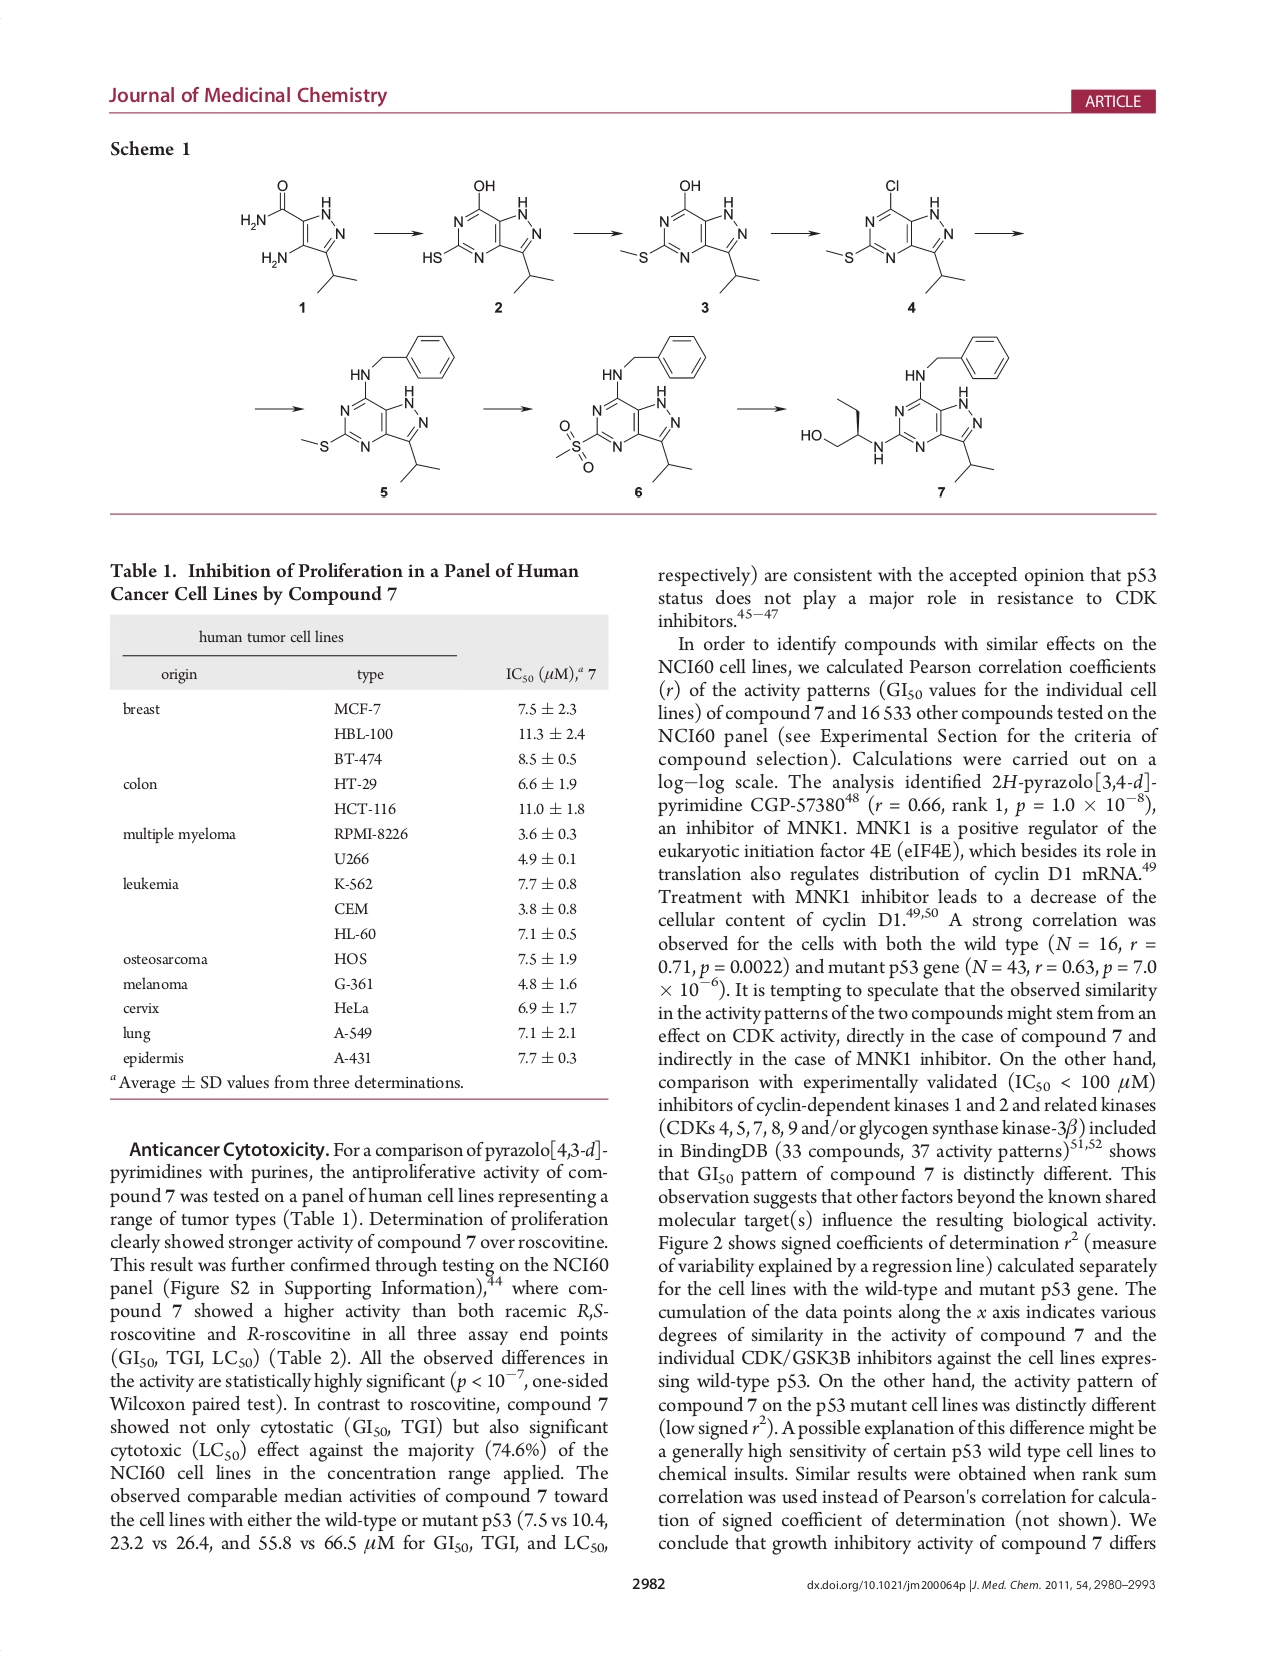exist_molecular: (798, 331, 1009, 484), (551, 330, 709, 483), (299, 330, 457, 483), (822, 176, 968, 295), (618, 178, 762, 297), (422, 178, 556, 297), (235, 176, 362, 297)
